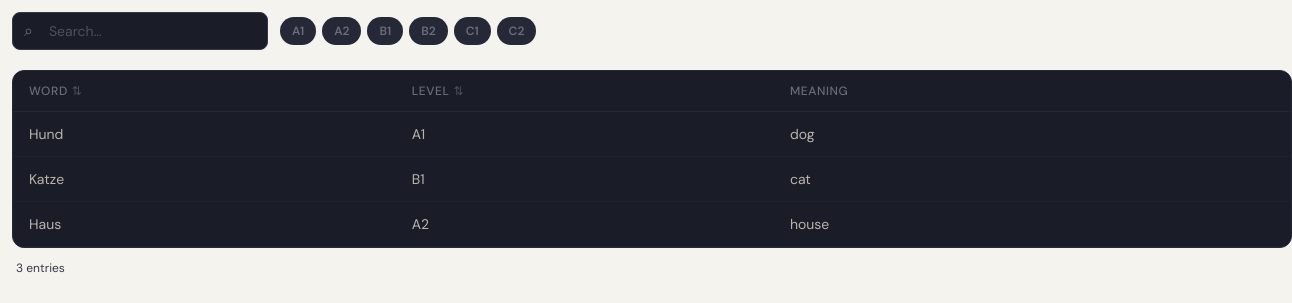
Test case: DataTable › shows "No entries match your search" when search has no results
The width and height of the screenshot is (1292, 303).
Type "xyzabc" into the field with placeholder "Search…" at coordinates (140, 31), box [12,12,268,50]
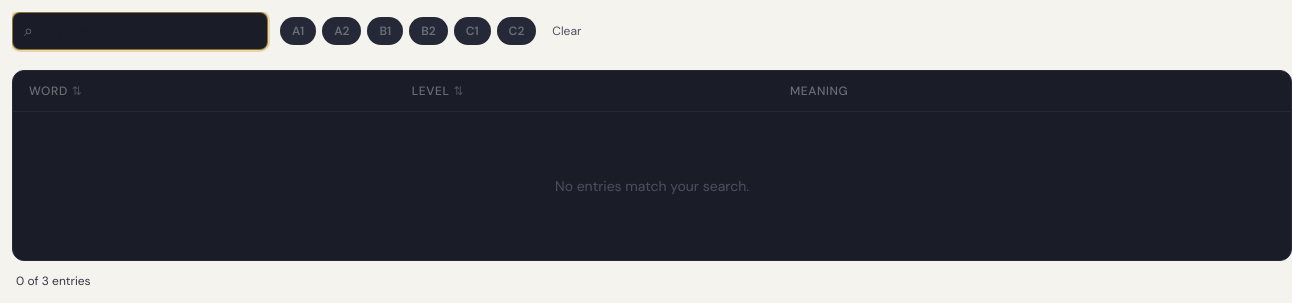
Expected: the text "No entries match your search." is shown, [13,112,1291,260]
